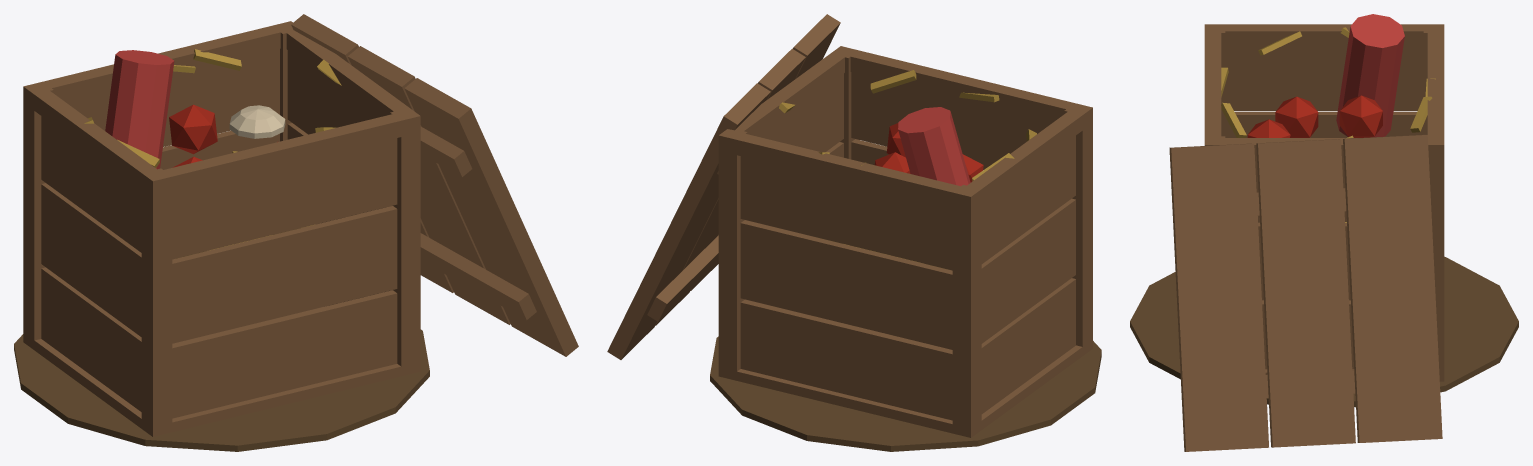
Rendered from SM_Crate_Rustic_01_Open.glb.
3 renders of one model, left to right at view 1: azimuth 30°, elevation 25°; view 2: azimuth 150°, elevation 25°; view 3: azimuth 270°, elevation 25°, orthographic. The views are drawn at different scales.
Parts seen in each view (by area): view 1: SM_Crate_Rustic_01_Open_Panels, SM_Crate_Rustic_01_Open_Frame, SM_Crate_Rustic_01_Open_LidProp, SM_Crate_Rustic_01_Open_DirtRing, SM_Crate_Rustic_01_Open_Cloth, SM_Crate_Rustic_01_Open_Apple2, SM_Crate_Rustic_01_Open_Onion0, SM_Crate_Rustic_01_Open_Wisps; view 2: SM_Crate_Rustic_01_Open_Panels, SM_Crate_Rustic_01_Open_Frame, SM_Crate_Rustic_01_Open_DirtRing, SM_Crate_Rustic_01_Open_LidProp, SM_Crate_Rustic_01_Open_Cloth, SM_Crate_Rustic_01_Open_Wisps; view 3: SM_Crate_Rustic_01_Open_LidProp, SM_Crate_Rustic_01_Open_Panels, SM_Crate_Rustic_01_Open_Frame, SM_Crate_Rustic_01_Open_DirtRing, SM_Crate_Rustic_01_Open_Cloth, SM_Crate_Rustic_01_Open_Apple2, SM_Crate_Rustic_01_Open_Wisps, SM_Crate_Rustic_01_Open_Apple0, SM_Crate_Rustic_01_Open_Apple1.
Boxes of the visible parts, box(x1,y1,x2,y2) form: SM_Crate_Rustic_01_Open_Panels: box(41, 49, 397, 418); SM_Crate_Rustic_01_Open_Frame: box(23, 21, 420, 436); SM_Crate_Rustic_01_Open_LidProp: box(291, 14, 578, 356); SM_Crate_Rustic_01_Open_DirtRing: box(14, 329, 429, 451); SM_Crate_Rustic_01_Open_Cloth: box(105, 50, 174, 169); SM_Crate_Rustic_01_Open_Apple2: box(169, 104, 217, 154); SM_Crate_Rustic_01_Open_Onion0: box(229, 105, 285, 138); SM_Crate_Rustic_01_Open_Wisps: box(84, 49, 341, 167); SM_Crate_Rustic_01_Open_Panels: box(740, 72, 1075, 420); SM_Crate_Rustic_01_Open_Frame: box(718, 46, 1092, 437); SM_Crate_Rustic_01_Open_DirtRing: box(710, 336, 1101, 451); SM_Crate_Rustic_01_Open_LidProp: box(607, 14, 840, 359); SM_Crate_Rustic_01_Open_Cloth: box(898, 107, 970, 186); SM_Crate_Rustic_01_Open_Wisps: box(779, 70, 1036, 181); SM_Crate_Rustic_01_Open_LidProp: box(1169, 134, 1442, 451); SM_Crate_Rustic_01_Open_Panels: box(1225, 46, 1423, 369); SM_Crate_Rustic_01_Open_Frame: box(1204, 24, 1444, 381); SM_Crate_Rustic_01_Open_DirtRing: box(1130, 256, 1518, 407); SM_Crate_Rustic_01_Open_Cloth: box(1336, 14, 1404, 137); SM_Crate_Rustic_01_Open_Apple2: box(1339, 95, 1382, 137); SM_Crate_Rustic_01_Open_Wisps: box(1221, 27, 1435, 138); SM_Crate_Rustic_01_Open_Apple0: box(1275, 96, 1318, 137); SM_Crate_Rustic_01_Open_Apple1: box(1247, 119, 1290, 137).
Bounding box in the file's own units: 1.06 × 0.6784 × 0.8432.
